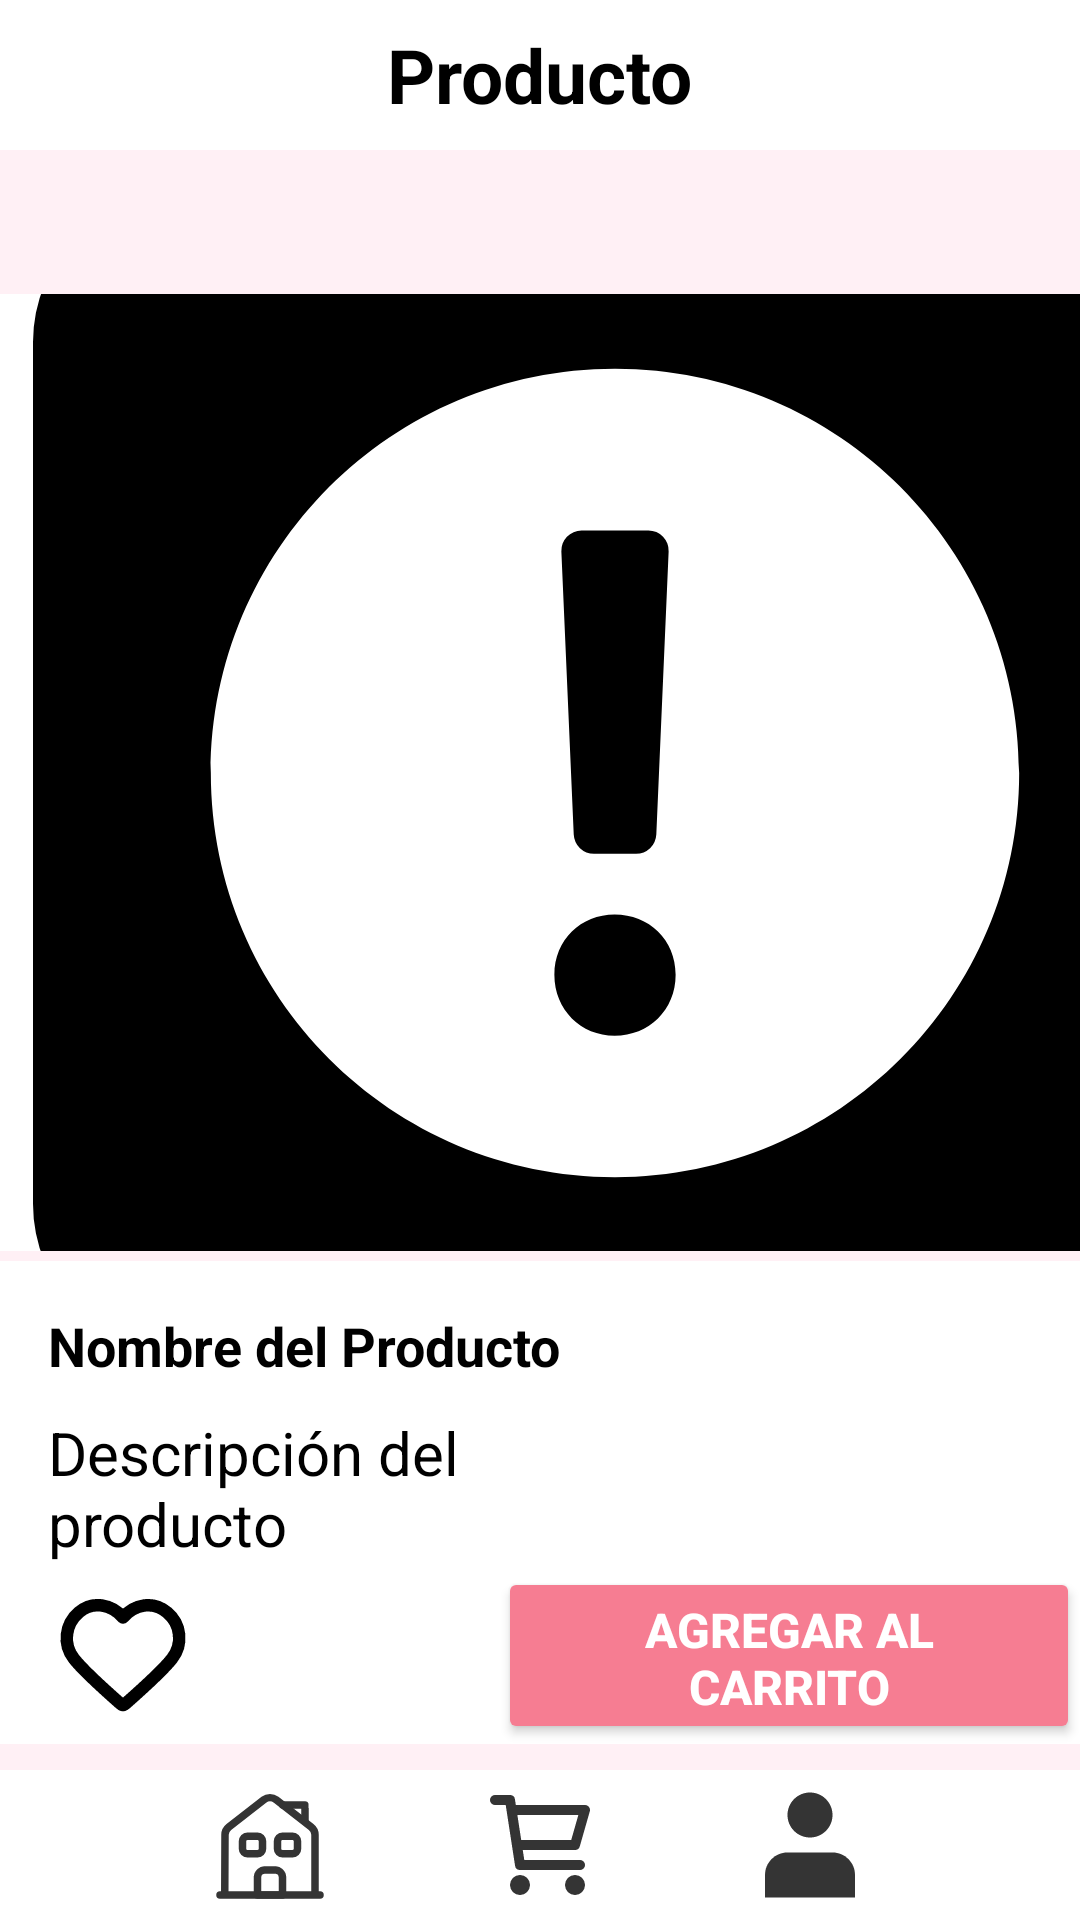

Where to tap for icons on this 1080w x 1920h app screen, as (x,y):
Cart: (540,1845)
Heart: (123,1655)
Home: (270,1846)
Profile: (810,1845)
